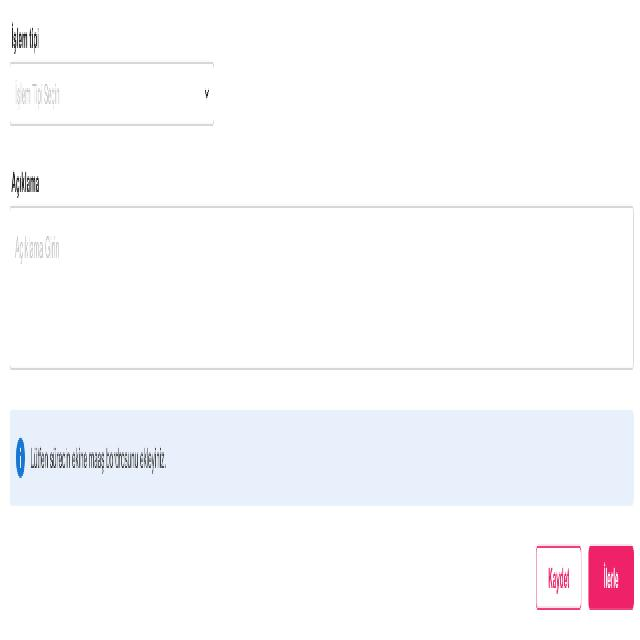QLabel: (30, 444, 166, 476), (10, 18, 40, 56), (10, 168, 40, 199), (548, 564, 570, 595), (603, 560, 618, 596)
VBtn: (536, 542, 582, 614), (588, 543, 634, 614)
VCard: (9, 408, 634, 509)
VCombobox: (9, 59, 214, 128)
VIcon: (15, 435, 25, 480)
VTextarea: (9, 203, 634, 372)
